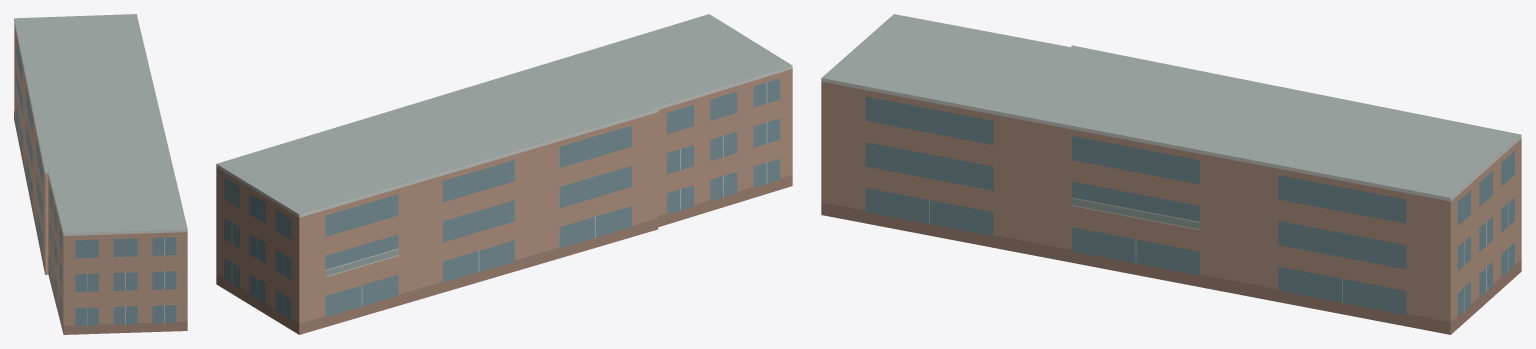
The model's file is survey-upis-32758310.glb.
3 views of the same model, side by side, from view 1: azimuth 30°, elevation 25°; view 2: azimuth 150°, elevation 25°; view 3: azimuth 270°, elevation 25° (orthographic). The views are drawn at different scales.
Parts seen in each view (by area): view 1: survey-upis-32758310.tmp; view 2: survey-upis-32758310.tmp; view 3: survey-upis-32758310.tmp.
Boxes of the visible parts, <box> form: survey-upis-32758310.tmp: <box>14,14,187,334</box>; survey-upis-32758310.tmp: <box>216,14,792,334</box>; survey-upis-32758310.tmp: <box>821,14,1521,334</box>.
Bounding box in the file's own units: 26.36 × 9.15 × 42.4.
